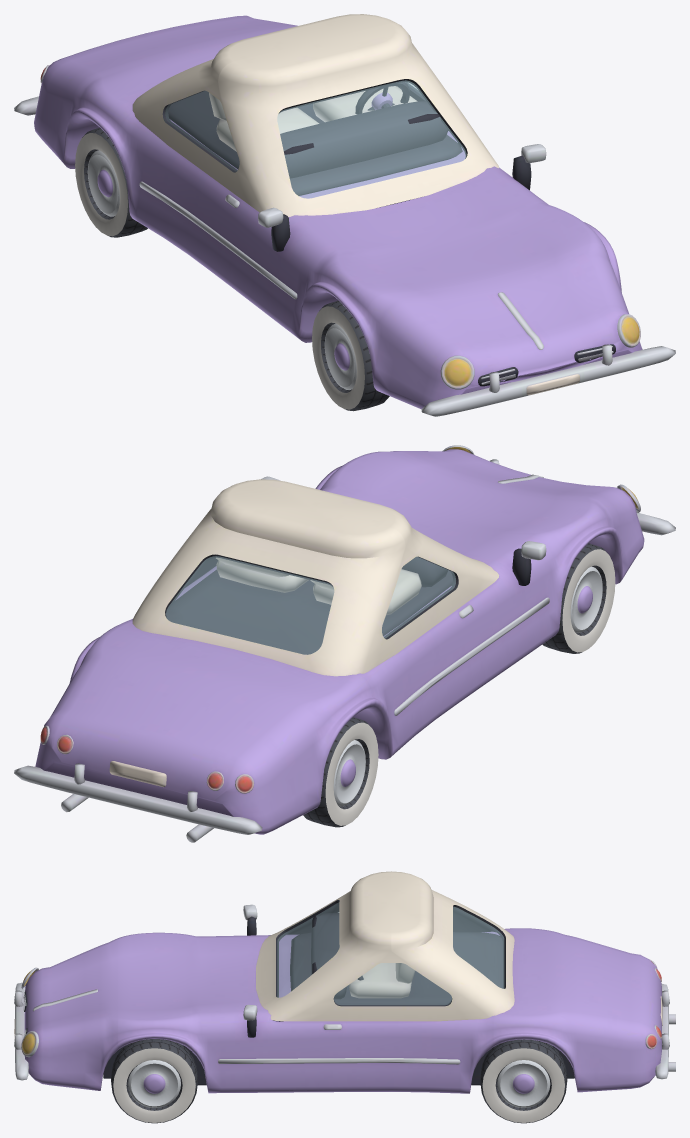
The model's file is coupe.glb.
3 views of the same model, one above another, from view 1: azimuth 30°, elevation 25°; view 2: azimuth 150°, elevation 25°; view 3: azimuth 270°, elevation 25° (orthographic). The views are drawn at different scales.
Visible parts, largest first — view 1: coupe_body, coupe_windows, coupe_wheel_fr, coupe_wheel_rr; view 2: coupe_body, coupe_windows, coupe_wheel_rr, coupe_wheel_fr; view 3: coupe_body, coupe_windows, coupe_wheel_fl, coupe_wheel_rl.
Boxes of the visible parts, left/top/right/bottom form: coupe_body: left=14, top=14, right=675, bottom=416; coupe_windows: left=165, top=80, right=466, bottom=198; coupe_wheel_fr: left=312, top=300, right=389, bottom=411; coupe_wheel_rr: left=75, top=127, right=147, bottom=237; coupe_body: left=14, top=445, right=675, bottom=842; coupe_windows: left=166, top=556, right=455, bottom=654; coupe_wheel_rr: left=303, top=717, right=378, bottom=827; coupe_wheel_fr: left=542, top=543, right=615, bottom=653; coupe_body: left=14, top=871, right=675, bottom=1093; coupe_windows: left=277, top=902, right=503, bottom=1004; coupe_wheel_fl: left=111, top=1039, right=198, bottom=1123; coupe_wheel_rl: left=480, top=1039, right=567, bottom=1123.
Size of the model in its own units: 1.81 by 1.37 by 4.7.
Materials: 22 (5 with a texture image).
